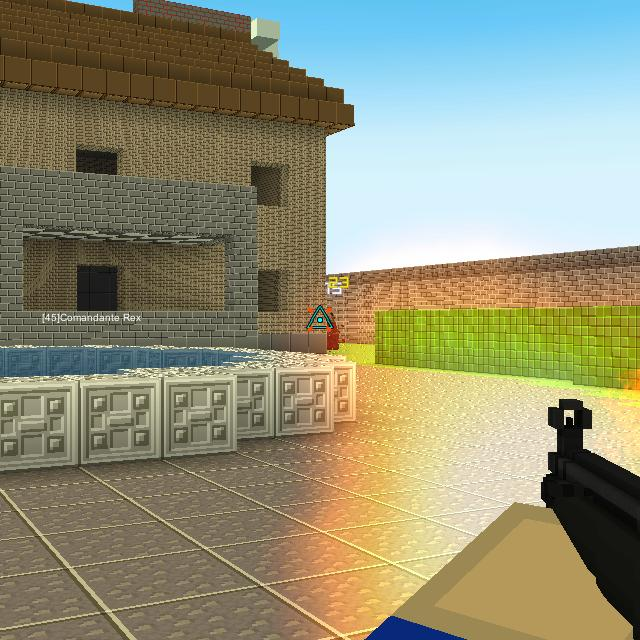enemy: (326, 310, 340, 351)
